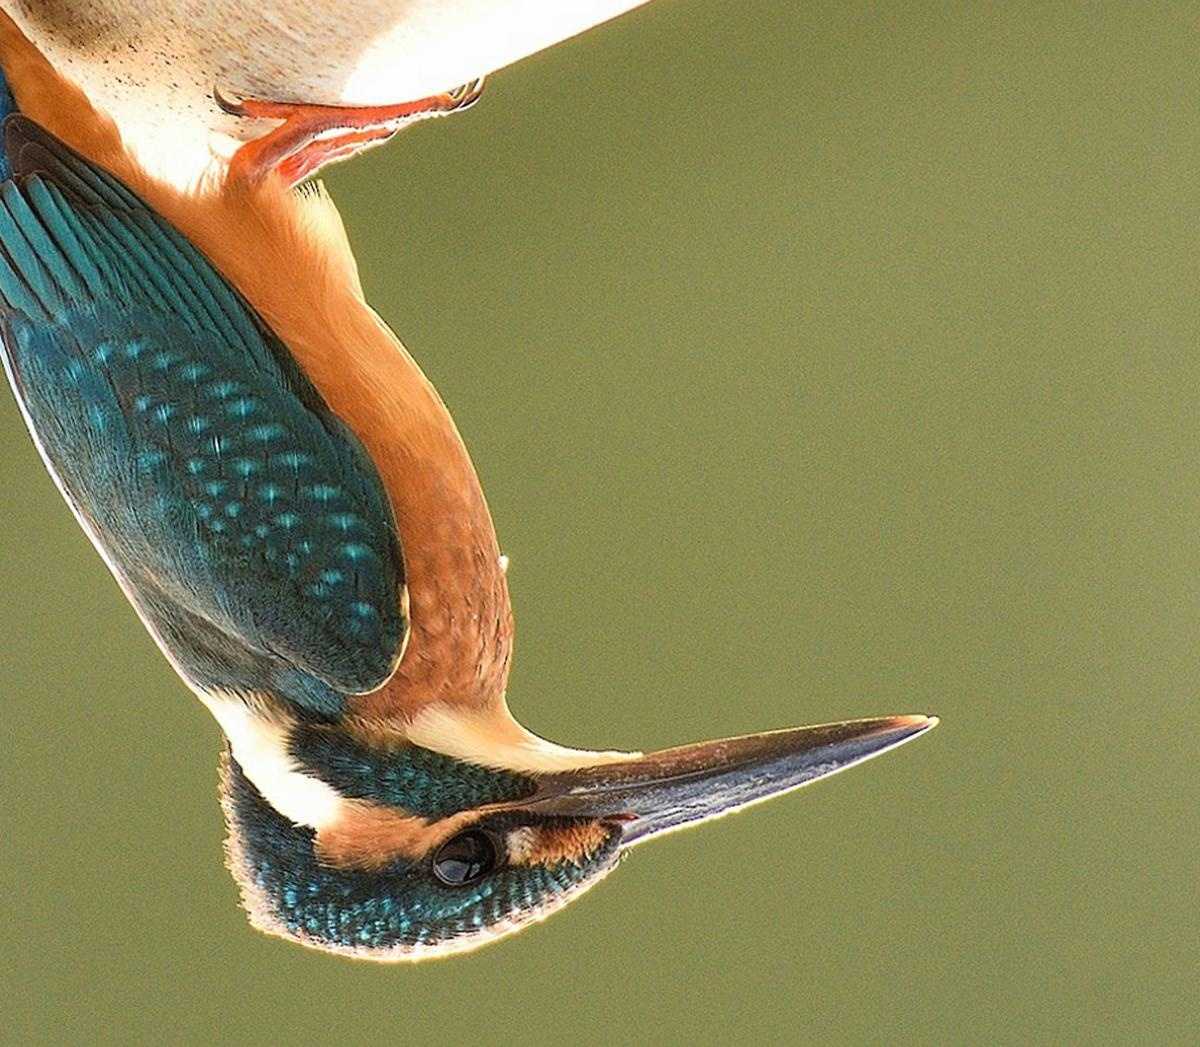kingfisher: (1, 28, 967, 958)
